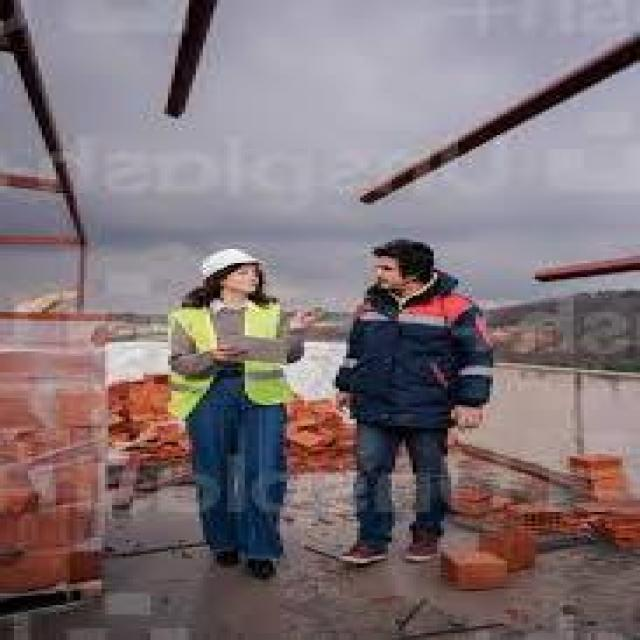reflective_jacket: (328, 284, 503, 433), (157, 293, 311, 414)
safety_helmet: (182, 239, 280, 288)
